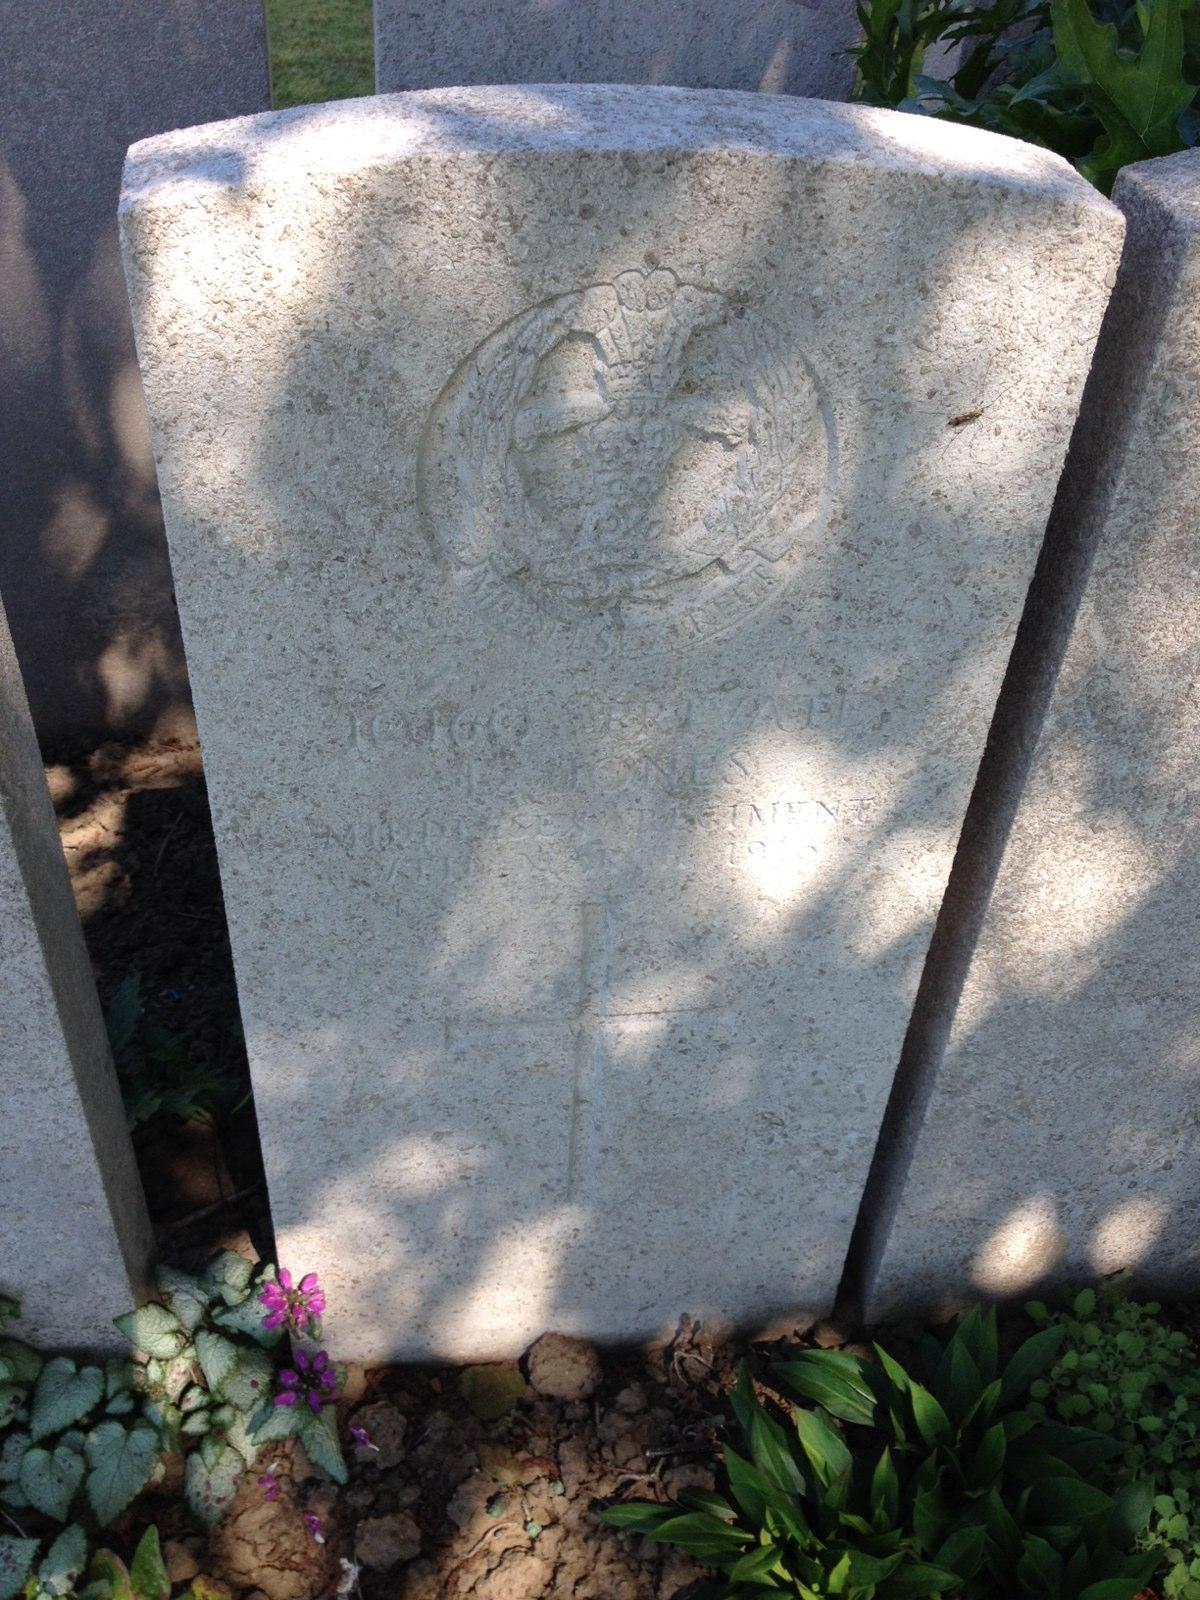military: (87, 52, 1160, 1364)
